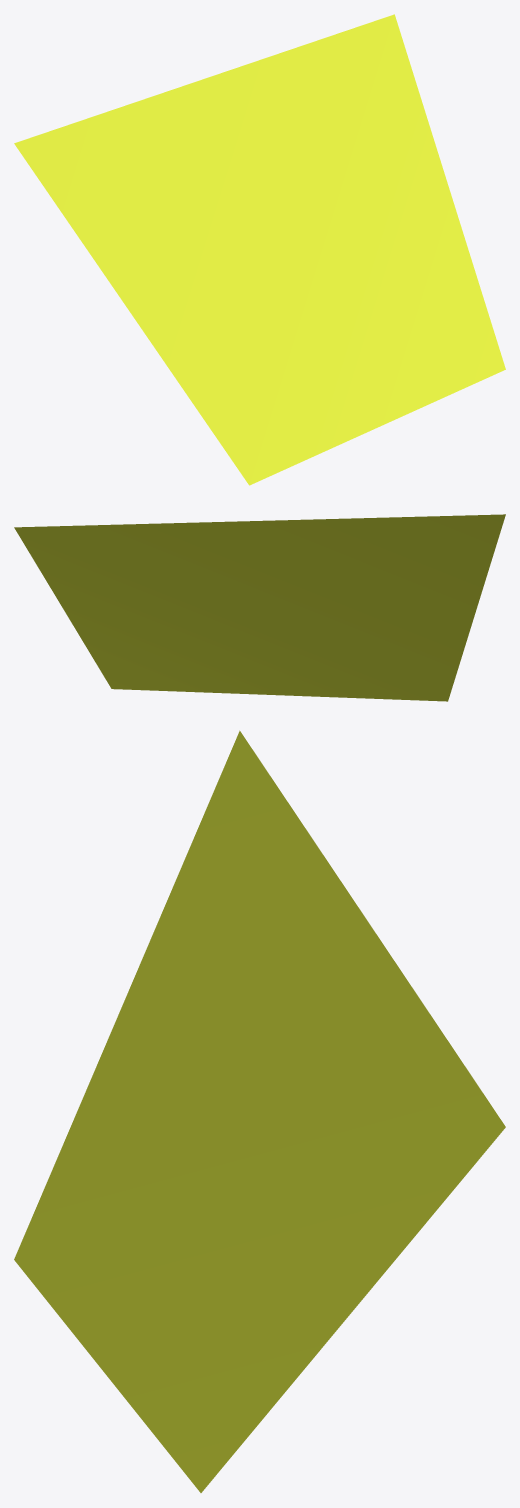
File: b_polySurface663_b_BMW_i8Elite_2_642.glb
The picture shows the model from 3 angles, top to bottom: view 1: azimuth 30°, elevation 25°; view 2: azimuth 150°, elevation 25°; view 3: azimuth 270°, elevation 25°; orthographic projection. The views are drawn at different scales.
Parts seen in each view (by area): view 1: b:polySurface663_b:BMW_i8Elite_2017CalliperGloss_Material1_0; view 2: b:polySurface663_b:BMW_i8Elite_2017CalliperGloss_Material1_0; view 3: b:polySurface663_b:BMW_i8Elite_2017CalliperGloss_Material1_0.
Boxes of the visible parts, x1,y1,x2,y2 form: b:polySurface663_b:BMW_i8Elite_2017CalliperGloss_Material1_0: (14,14,505,485); b:polySurface663_b:BMW_i8Elite_2017CalliperGloss_Material1_0: (14,514,505,701); b:polySurface663_b:BMW_i8Elite_2017CalliperGloss_Material1_0: (14,730,505,1492).
Size of the model in its own units: 0.037 by 0.0245 by 0.0244.
